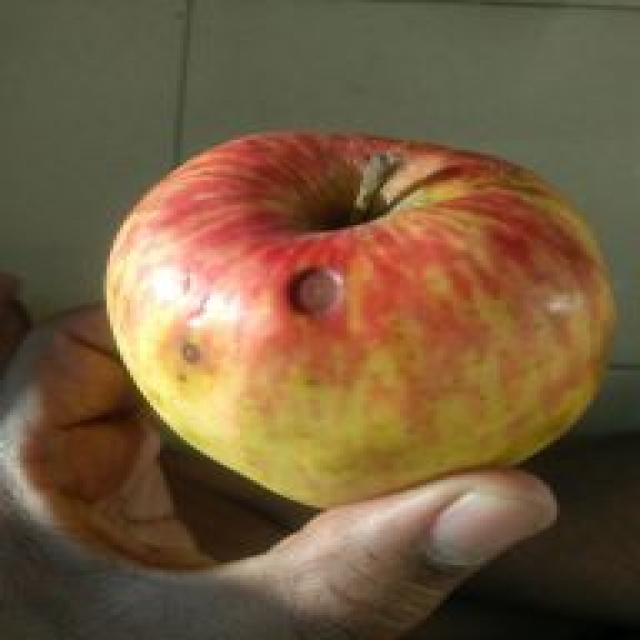Rotten_Apple: (58, 117, 640, 533)
